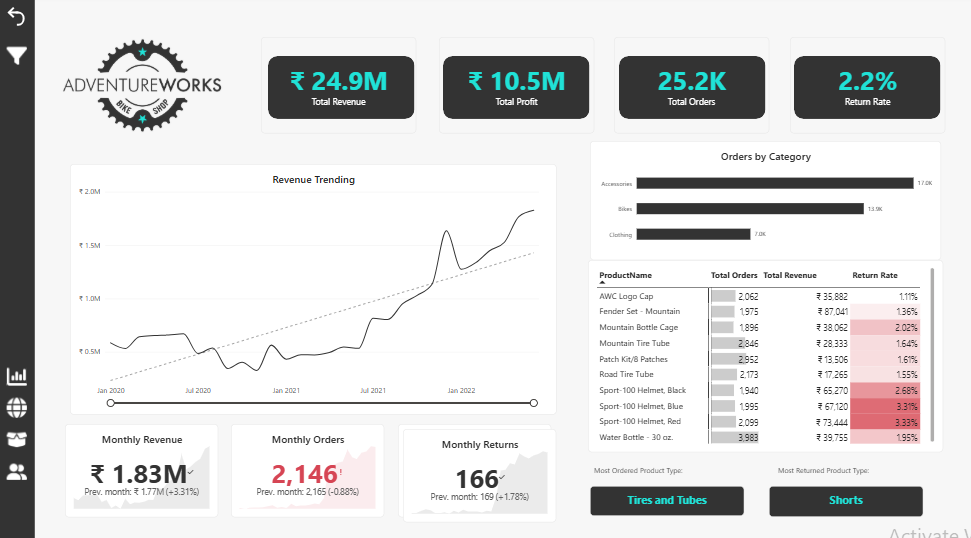

Layout of this report page (visuals, bound fields, positions):
{"tool":"powerbi","page":{"name":"Exec Dashboard","canvas":[1920,1080],"ordinal":0},"visuals":[{"type":"image","title":"AW logo","box":[73.3,80,424.4,191.1],"z":0},{"type":"card","fields":{"Values":["Measure Table.Total Revenue"]},"box":[518,80,306,190],"z":0,"group":"g2"},{"type":"shape","box":[532,118.4,288.9,124.1],"z":0,"group":"g1"},{"type":"group","id":"g1","title":"KPI Backgrounds","box":[532,118.4,1325.9,124.1],"z":0,"group":"g3"},{"type":"actionButton","box":[0,781.7,73.3,61.7],"z":0,"group":"g4"},{"type":"shape","title":"Left Nav Background","box":[0,0,72.5,1080],"z":1000},{"type":"group","id":"g2","title":"KPI Values","box":[518,80,1348,190],"z":1000,"group":"g3"},{"type":"card","fields":{"Values":["Measure Table.Return Rate"]},"box":[1560,80,306,190],"z":1000,"group":"g2"},{"type":"shape","box":[1569,118.4,288.9,124.1],"z":1000,"group":"g1"},{"type":"actionButton","box":[0,843.3,73.3,61.7],"z":1000,"group":"g4"},{"type":"group","id":"g3","title":"KPIs","box":[518,80,1348,190],"z":2000},{"type":"card","fields":{"Values":["Measure Table.Total Orders"]},"box":[1214,80,306,190],"z":2000,"group":"g2"},{"type":"shape","box":[877.7,118.4,288.9,124.1],"z":2000,"group":"g1"},{"type":"actionButton","box":[0,905,73.3,65],"z":2000,"group":"g4"},{"type":"card","fields":{"Values":["Measure Table.Total Profit"]},"box":[868,80,306,190],"z":3000,"group":"g2"},{"type":"shape","box":[1223.4,118.4,288.9,124.1],"z":3000,"group":"g1"},{"type":"lineChart","title":"Revenue Trending","fields":{"Category":["Calendar Lookup.Year","Calendar Lookup.Start of Quarter","Calendar Lookup.Start of Month"],"Y":["Measure Table.Total Revenue"]},"box":[141.3,331.8,958.9,494.4],"z":3000},{"type":"actionButton","box":[0,720,73.3,61.7],"z":3000,"group":"g4"},{"type":"kpi","title":"Monthly Revenue","fields":{"Goal":["Measure Table.Previour Month Revenue"],"Indicator":["Measure Table.Total Revenue"],"TrendLine":["Calendar Lookup.Start of Month"]},"box":[788,844,302,184],"z":4000},{"type":"kpi","title":"Monthly Revenue","fields":{"Goal":["Measure Table.Previour Month Revenue"],"Indicator":["Measure Table.Total Revenue"],"TrendLine":["Calendar Lookup.Start of Month"]},"box":[132,844,302,184],"z":5000},{"type":"kpi","title":"Monthly Orders","fields":{"Goal":["Measure Table.Previous Month Orders"],"Indicator":["Measure Table.Total Orders"],"TrendLine":["Calendar Lookup.Start of Month"]},"box":[460,844,302,184],"z":6000},{"type":"kpi","title":"Monthly Returns","fields":{"Goal":["Measure Table.Previous Month Returns"],"Indicator":["Measure Table.Total Returns"],"TrendLine":["Calendar Lookup.Start of Month"]},"box":[798,854,302,184],"z":7000},{"type":"clusteredBarChart","title":"Orders by Category","fields":{"Category":["Product Categories Lookup.CategoryName"],"Y":["Measure Table.Total Orders"]},"box":[1166.7,285,691.7,235],"z":8000},{"type":"pivotTable","fields":{"Rows":["Product Lookup.ProductName"],"Values":["Measure Table.Total Orders","Measure Table.Total Revenue","Measure Table.Return Rate"]},"box":[1162.3,520.1,699.9,378.9],"z":9000},{"type":"card","fields":{"Values":["Min(Product Subcategories Lookup.SubcategoryName)"]},"box":[1166.7,965.7,303.5,59.1],"z":10000},{"type":"textbox","box":[1175,923.3,295,43.3],"z":11000},{"type":"card","fields":{"Values":["Min(Product Subcategories Lookup.SubcategoryName)"]},"box":[1519.5,965.7,303.5,61.1],"z":12000},{"type":"textbox","box":[1536.7,923.3,295,45],"z":13000},{"type":"actionButton","box":[0,0,72.8,79.2],"z":14000},{"type":"group","id":"g4","title":"Navigation button","box":[0,720,73.3,250],"z":15000},{"type":"actionButton","box":[0,80,73.3,73.3],"z":16000}]}

Visuals, with their boxes on the page's 1920x1080 design canvas (x1, y1, x2, y2). These are canvas units, not pixel positions in the 971x538 screenshot, which may show the page scaled, cropped or inside an application window:
"AW logo" image: crop(73, 80, 498, 271)
card - Measure Table.Total Revenue: crop(518, 80, 824, 270)
shape: crop(532, 118, 821, 242)
"KPI Backgrounds" group: crop(532, 118, 1858, 242)
actionButton: crop(0, 782, 73, 843)
"Left Nav Background" shape: crop(0, 0, 72, 1080)
"KPI Values" group: crop(518, 80, 1866, 270)
card - Measure Table.Return Rate: crop(1560, 80, 1866, 270)
shape: crop(1569, 118, 1858, 242)
actionButton: crop(0, 843, 73, 905)
"KPIs" group: crop(518, 80, 1866, 270)
card - Measure Table.Total Orders: crop(1214, 80, 1520, 270)
shape: crop(878, 118, 1167, 242)
actionButton: crop(0, 905, 73, 970)
card - Measure Table.Total Profit: crop(868, 80, 1174, 270)
shape: crop(1223, 118, 1512, 242)
"Revenue Trending" lineChart: crop(141, 332, 1100, 826)
actionButton: crop(0, 720, 73, 782)
"Monthly Revenue" kpi: crop(788, 844, 1090, 1028)
"Monthly Revenue" kpi: crop(132, 844, 434, 1028)
"Monthly Orders" kpi: crop(460, 844, 762, 1028)
"Monthly Returns" kpi: crop(798, 854, 1100, 1038)
"Orders by Category" clusteredBarChart: crop(1167, 285, 1858, 520)
pivotTable - Product Lookup.ProductName x Measure Table.Total Orders: crop(1162, 520, 1862, 899)
card - Min(Product Subcategories Lookup.SubcategoryName): crop(1167, 966, 1470, 1025)
textbox: crop(1175, 923, 1470, 967)
card - Min(Product Subcategories Lookup.SubcategoryName): crop(1520, 966, 1823, 1027)
textbox: crop(1537, 923, 1832, 968)
actionButton: crop(0, 0, 73, 79)
"Navigation button" group: crop(0, 720, 73, 970)
actionButton: crop(0, 80, 73, 153)
